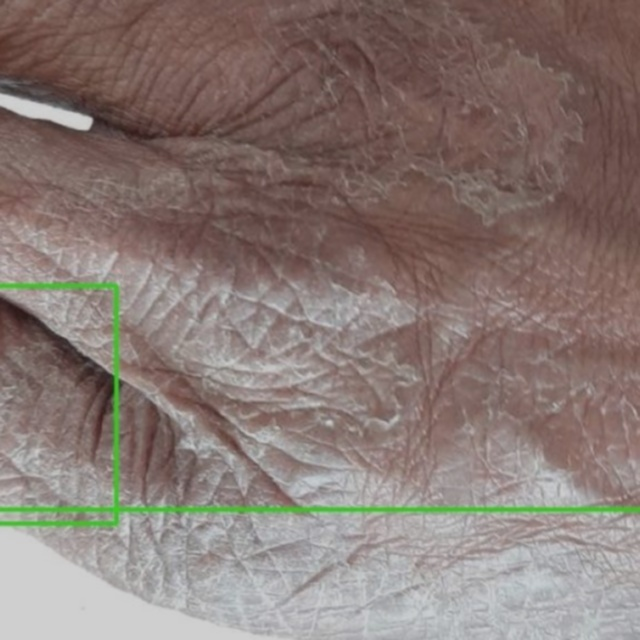Contact Dermatitis: (0, 509, 639, 639), (0, 285, 116, 523)
